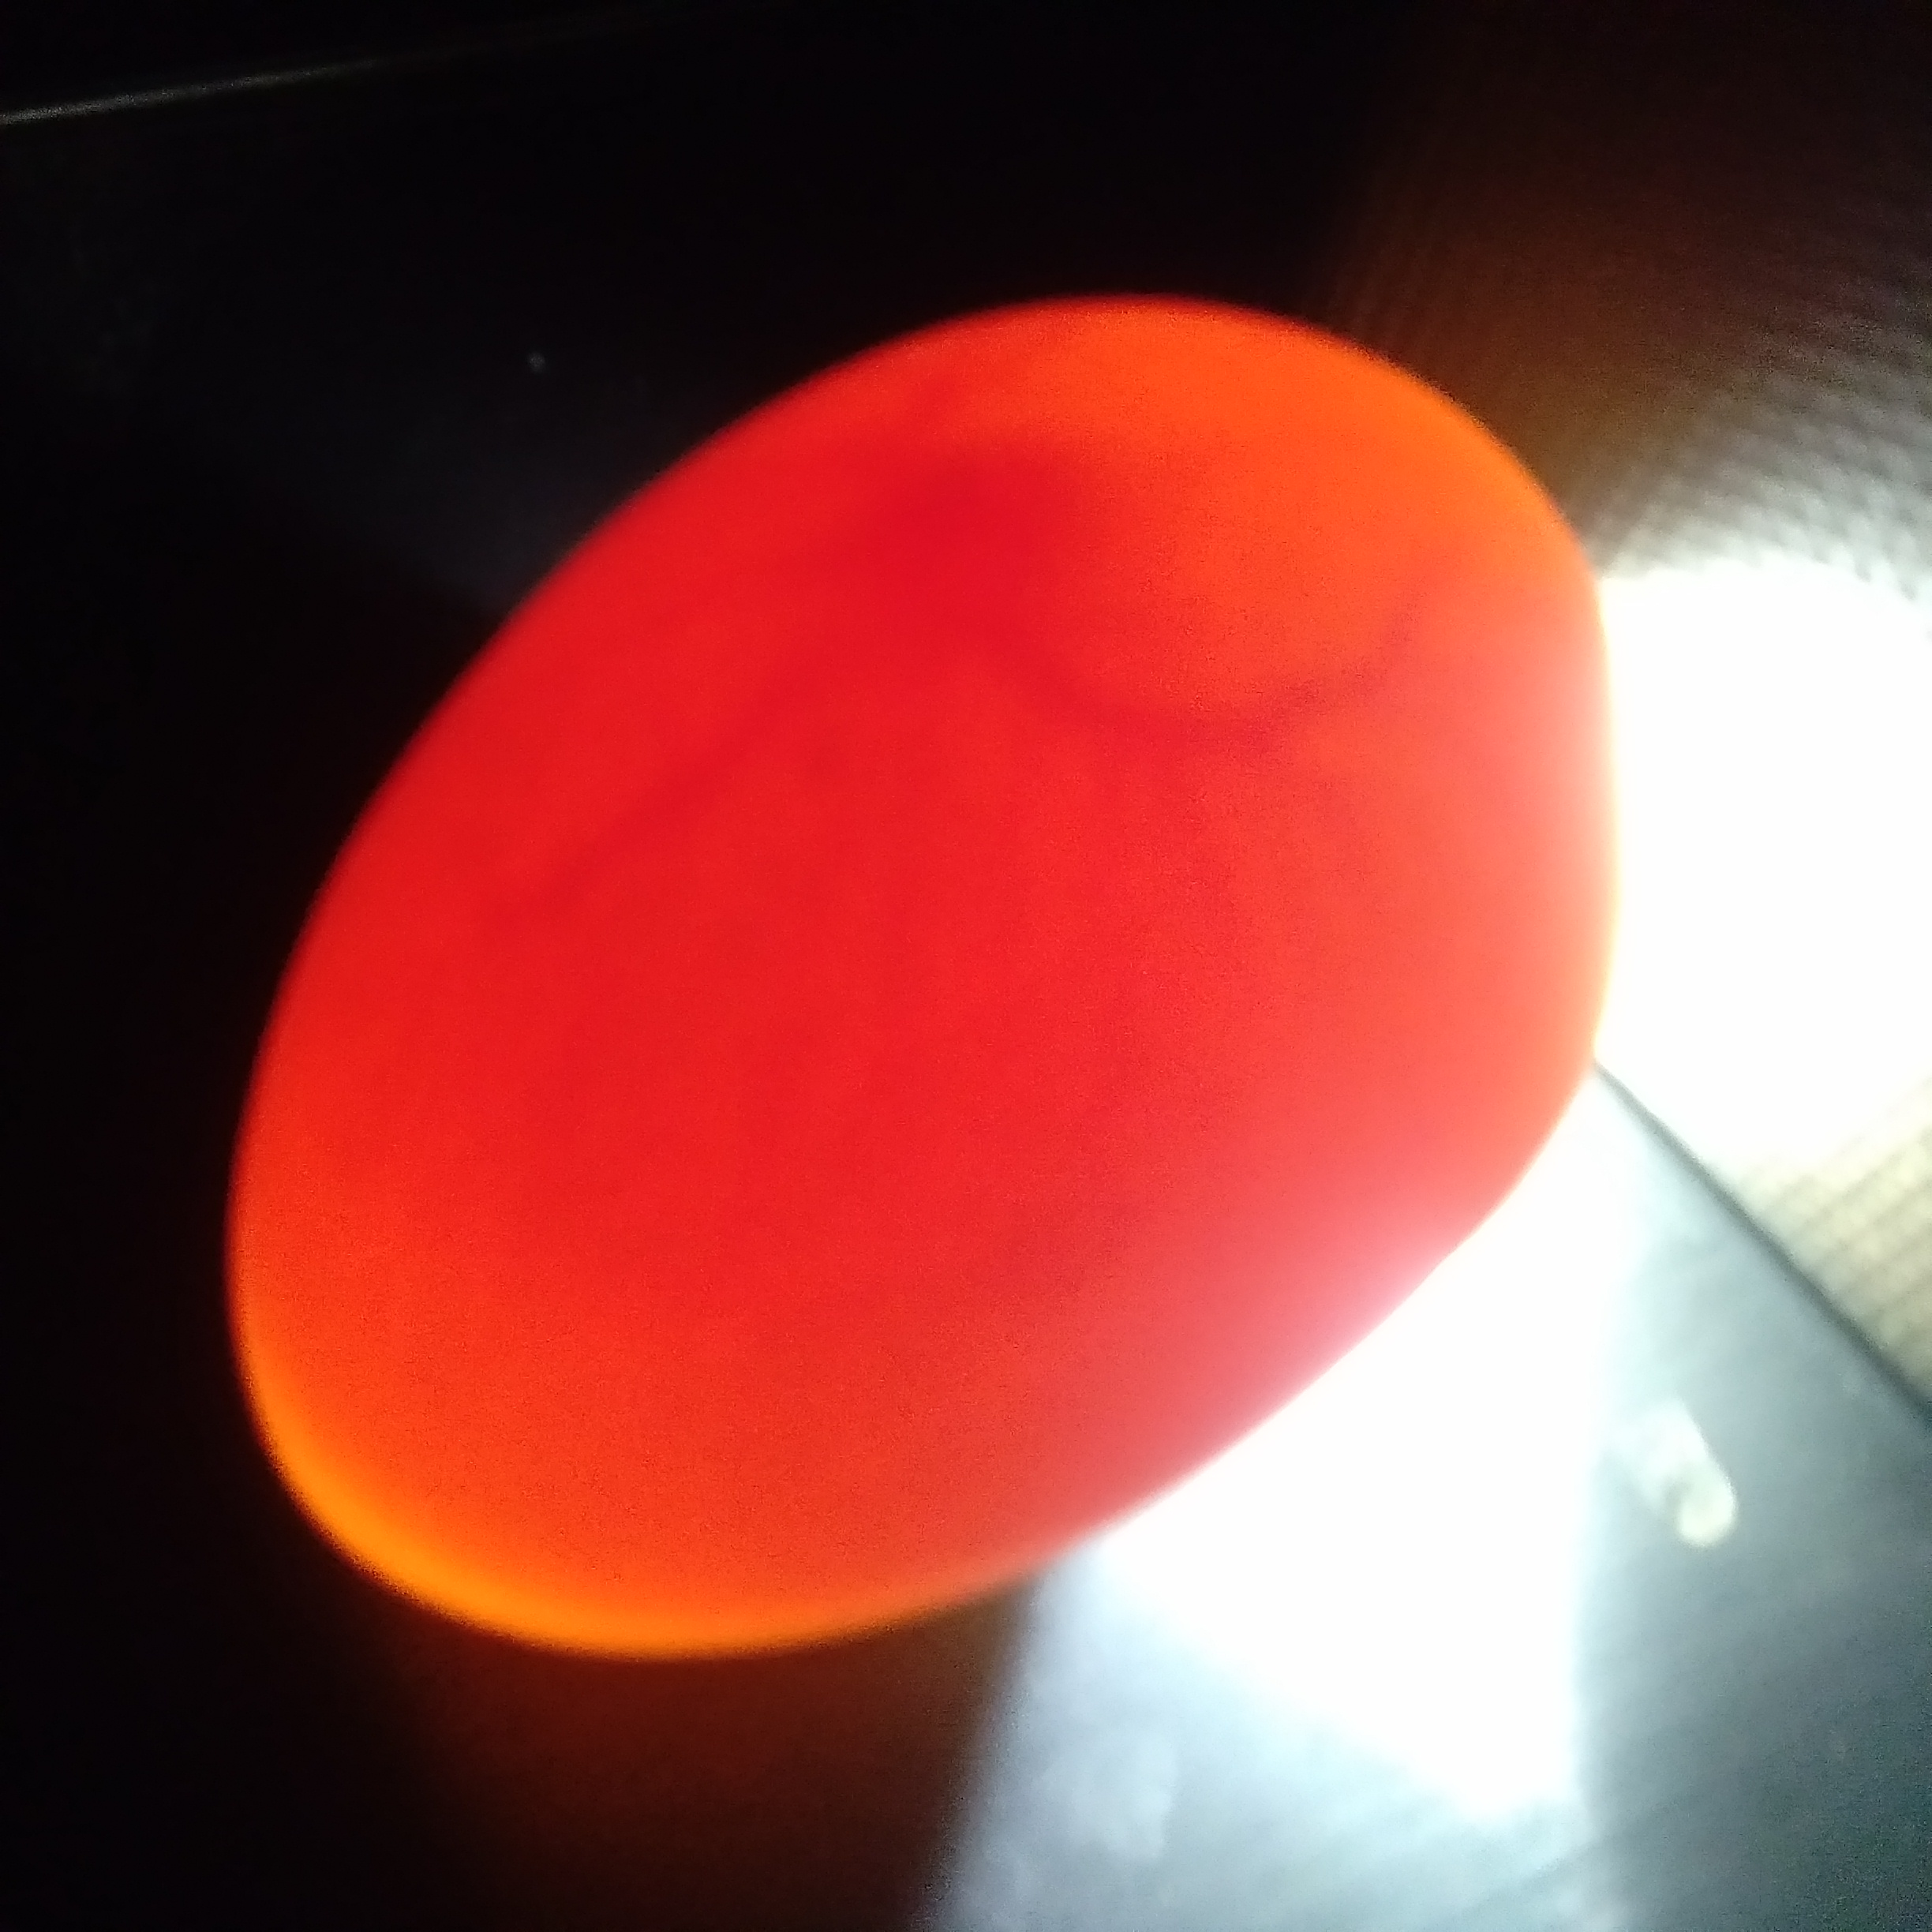bloodcell: (671, 732, 1382, 1148)
embryo: (901, 426, 1088, 665)
